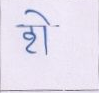e_matra: (26, 9, 53, 24)
